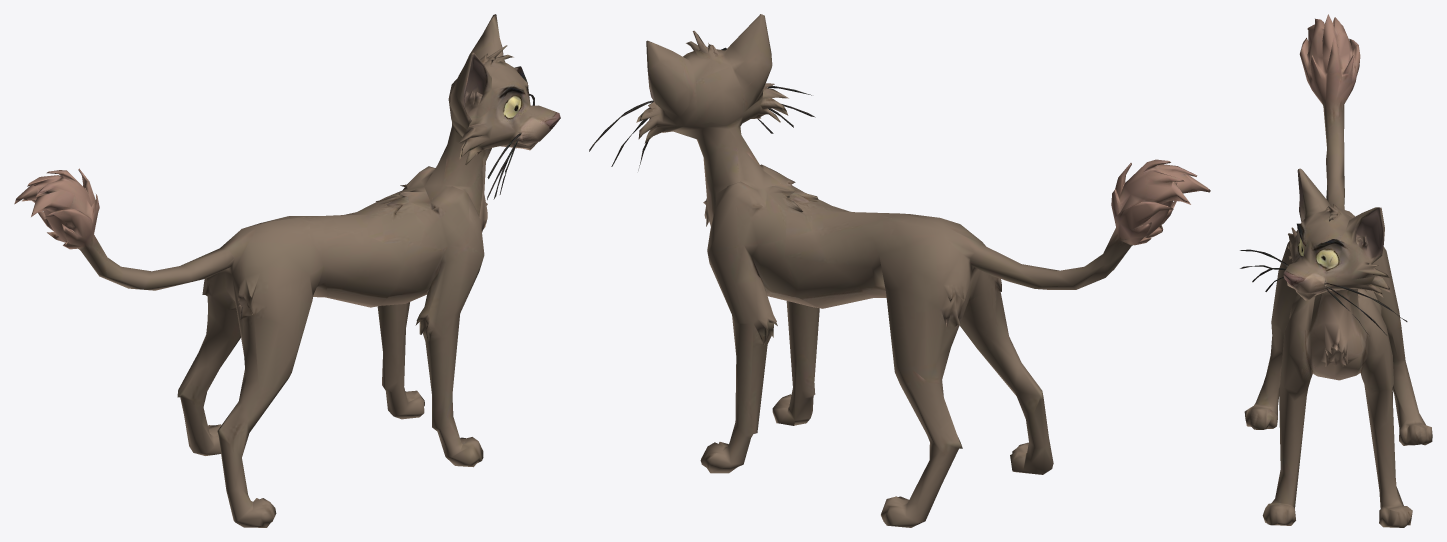
The model's file is SGTTIBBS-lo.glb.
3 renders of one model, left to right at view 1: azimuth 30°, elevation 25°; view 2: azimuth 150°, elevation 25°; view 3: azimuth 270°, elevation 25°, orthographic. The views are drawn at different scales.
Parts seen in each view (by area): view 1: tripo_node_07a8f2ef-c2b3-43ac-95dc-cc738a3435e3; view 2: tripo_node_07a8f2ef-c2b3-43ac-95dc-cc738a3435e3; view 3: tripo_node_07a8f2ef-c2b3-43ac-95dc-cc738a3435e3.
Boxes of the visible parts, box(x1,y1,x2,y2) form: tripo_node_07a8f2ef-c2b3-43ac-95dc-cc738a3435e3: box(14, 14, 560, 527); tripo_node_07a8f2ef-c2b3-43ac-95dc-cc738a3435e3: box(589, 14, 1210, 527); tripo_node_07a8f2ef-c2b3-43ac-95dc-cc738a3435e3: box(1240, 14, 1432, 527).
Size of the model in its own units: 1.43 by 0.9988 by 0.4824.
Materials: 1 (1 with a texture image).
